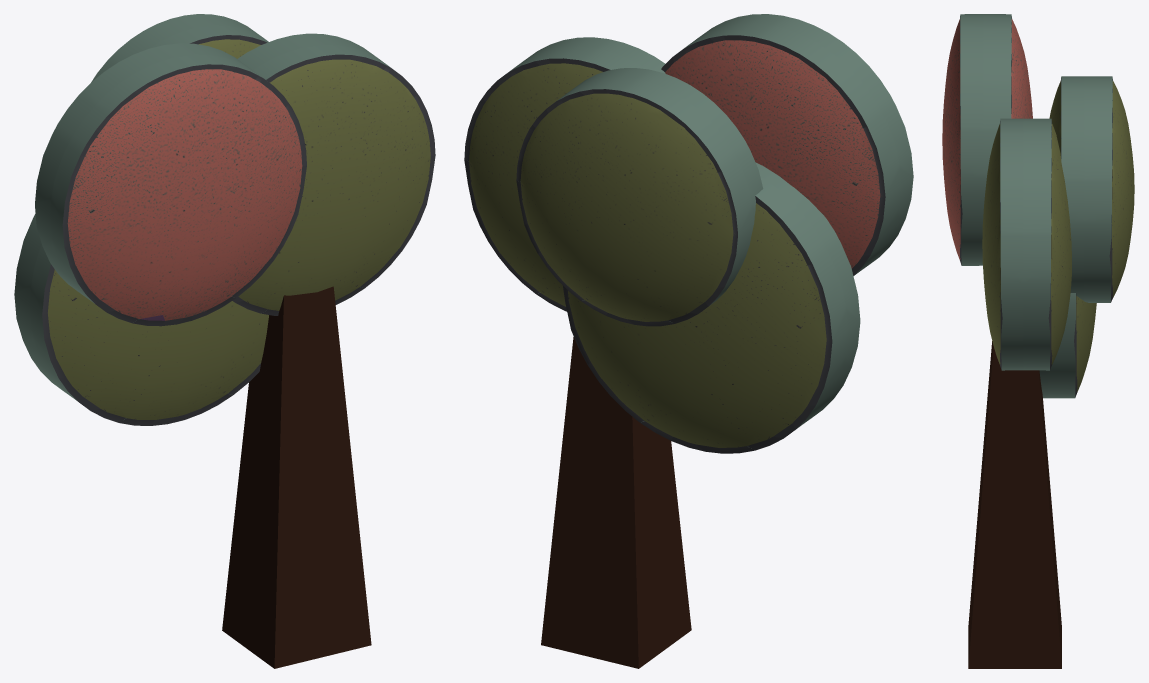
File: Tree 03.fbx
The picture shows the model from 3 angles, left to right: view 1: azimuth 30°, elevation 25°; view 2: azimuth 150°, elevation 25°; view 3: azimuth 270°, elevation 25°; orthographic projection. The views are drawn at different scales.
Parts seen in each view (by area): view 1: tree_58_02, tree_58_trunk, tree_58_00, tree_58_03, tree_58_01; view 2: tree_58_01, tree_58_03, tree_58_02, tree_58_trunk, tree_58_00; view 3: tree_58_trunk, tree_58_00, tree_58_01, tree_58_02, tree_58_03.
Part boxes in pixels (x1=…): tree_58_02: x1=35, y1=43, x2=306, y2=326; tree_58_trunk: x1=222, y1=286, x2=371, y2=668; tree_58_00: x1=232, y1=33, x2=435, y2=315; tree_58_03: x1=14, y1=213, x2=268, y2=425; tree_58_01: x1=91, y1=14, x2=268, y2=82; tree_58_01: x1=516, y1=68, x2=763, y2=326; tree_58_03: x1=563, y1=162, x2=860, y2=453; tree_58_02: x1=661, y1=14, x2=913, y2=275; tree_58_trunk: x1=541, y1=337, x2=691, y2=668; tree_58_00: x1=464, y1=37, x2=665, y2=311; tree_58_trunk: x1=968, y1=341, x2=1061, y2=668; tree_58_00: x1=982, y1=118, x2=1071, y2=370; tree_58_01: x1=1049, y1=76, x2=1134, y2=302; tree_58_02: x1=942, y1=14, x2=1032, y2=265; tree_58_03: x1=1039, y1=293, x2=1096, y2=398.
Size of the model in its own units: 16.13 by 24.45 by 7.61.
